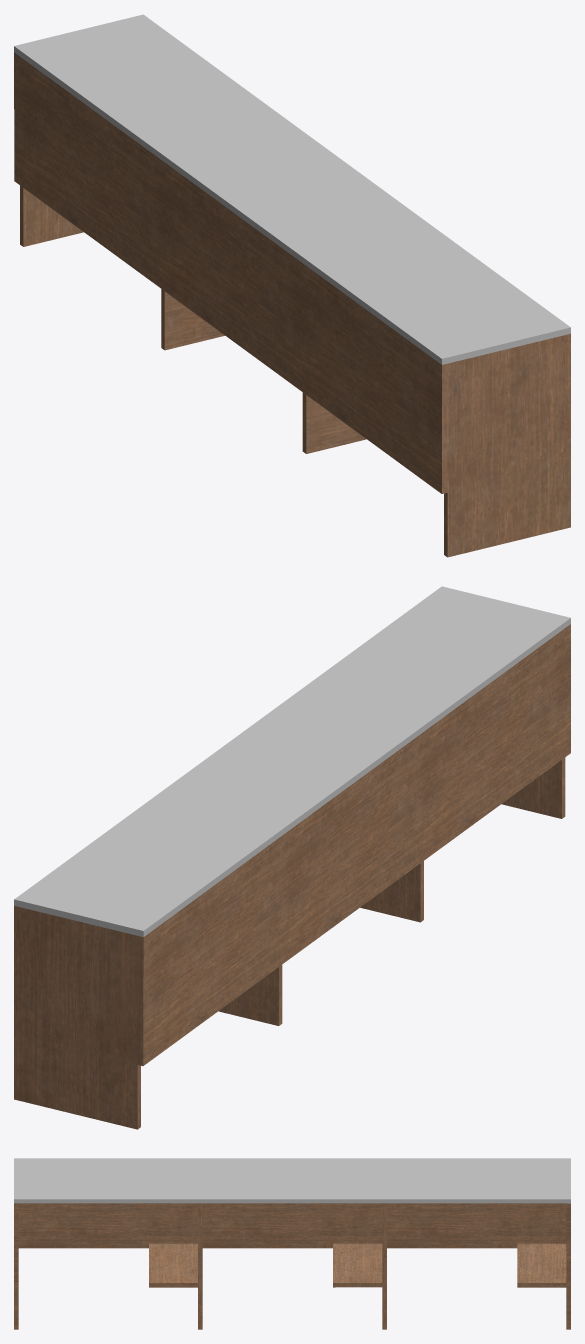
Rendered from desk_bake.fbx.
3 renders of one model, top to bottom at view 1: azimuth 30°, elevation 25°; view 2: azimuth 150°, elevation 25°; view 3: azimuth 270°, elevation 25°, orthographic. The views are drawn at different scales.
Visible parts, largest first — view 1: Plane.003, Plane.006; view 2: Plane.003, Plane.006; view 3: Plane.003, Plane.006, Plane.005.
Boxes of the visible parts, x1,y1,x2,y2 form: Plane.003: [14, 14, 570, 557]; Plane.006: [161, 289, 366, 453]; Plane.003: [14, 586, 570, 1129]; Plane.006: [218, 861, 423, 1025]; Plane.003: [14, 1158, 570, 1329]; Plane.006: [149, 1203, 386, 1329]; Plane.005: [517, 1243, 566, 1287].
Size of the model in its own units: 210 by 310 by 1200.
